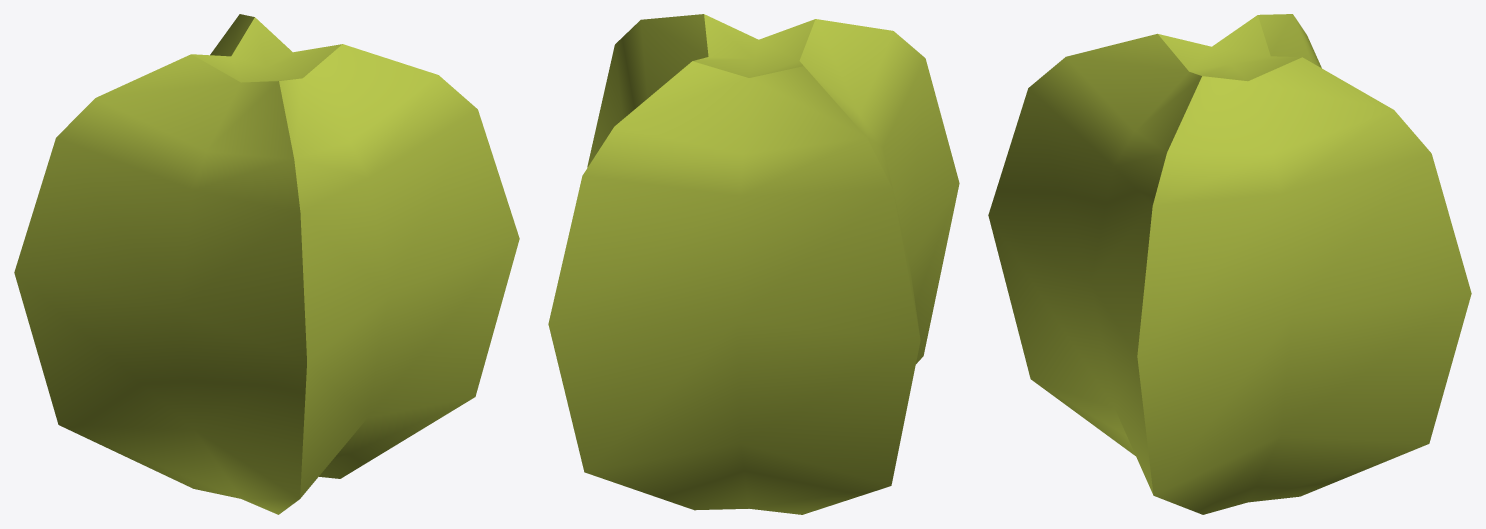
The model's file is 仙人掌2.fbx.
3 renders of one model, left to right at view 1: azimuth 30°, elevation 25°; view 2: azimuth 150°, elevation 25°; view 3: azimuth 270°, elevation 25°, orthographic. The views are drawn at different scales.
Visible parts, largest first — view 1: pCube37; view 2: pCube37; view 3: pCube37.
Boxes of the visible parts, x1,y1,x2,y2 form: pCube37: [14, 14, 519, 514]; pCube37: [548, 14, 959, 514]; pCube37: [988, 14, 1471, 514].
Size of the model in its own units: 183 by 184 by 183.
